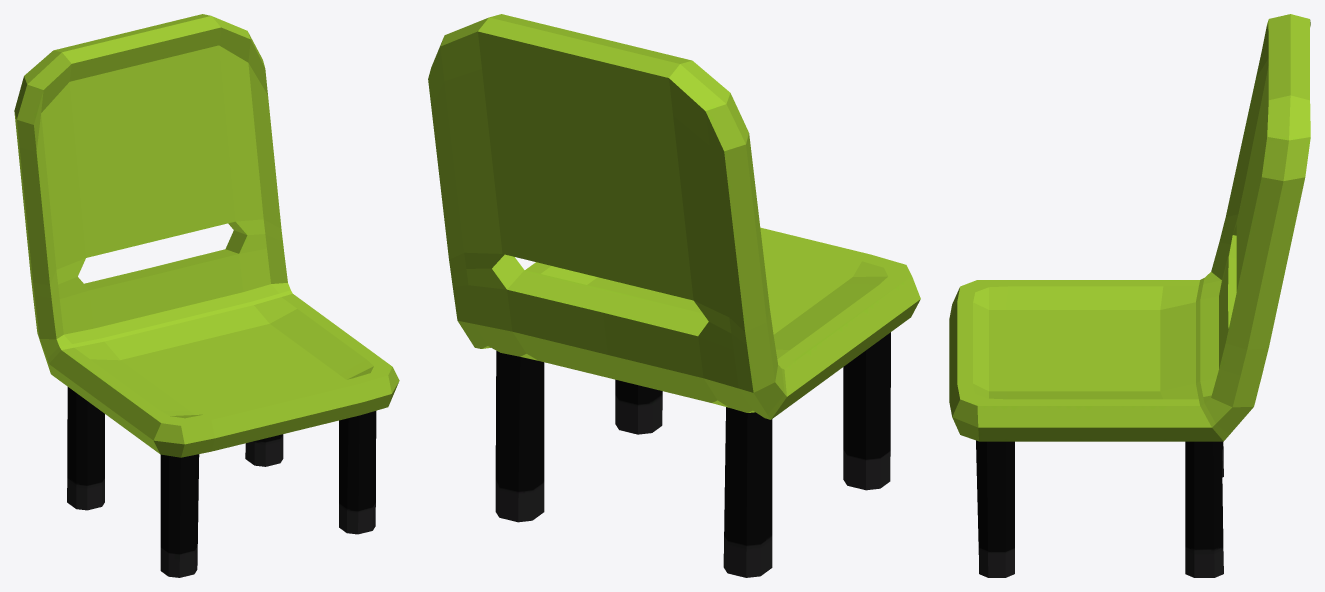
The model's file is ChairGreen.fbx.
3 views of the same model, side by side, from view 1: azimuth 30°, elevation 25°; view 2: azimuth 150°, elevation 25°; view 3: azimuth 270°, elevation 25° (orthographic). The views are drawn at different scales.
Visible parts, largest first — view 1: Cube; view 2: Cube; view 3: Cube.
Boxes of the visible parts, bbox=[...] form: Cube: bbox=[14, 14, 399, 577]; Cube: bbox=[428, 14, 920, 577]; Cube: bbox=[949, 14, 1310, 577].
Size of the model in its own units: 1402 by 2278 by 1599.
